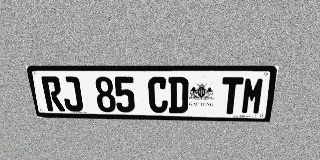5: (114, 77, 135, 112)
8: (94, 76, 116, 112)
C: (148, 77, 168, 113)
D: (168, 77, 189, 113)
J: (60, 76, 84, 112)
M: (240, 77, 266, 114)
R: (41, 76, 65, 111)
T: (220, 77, 244, 114)
